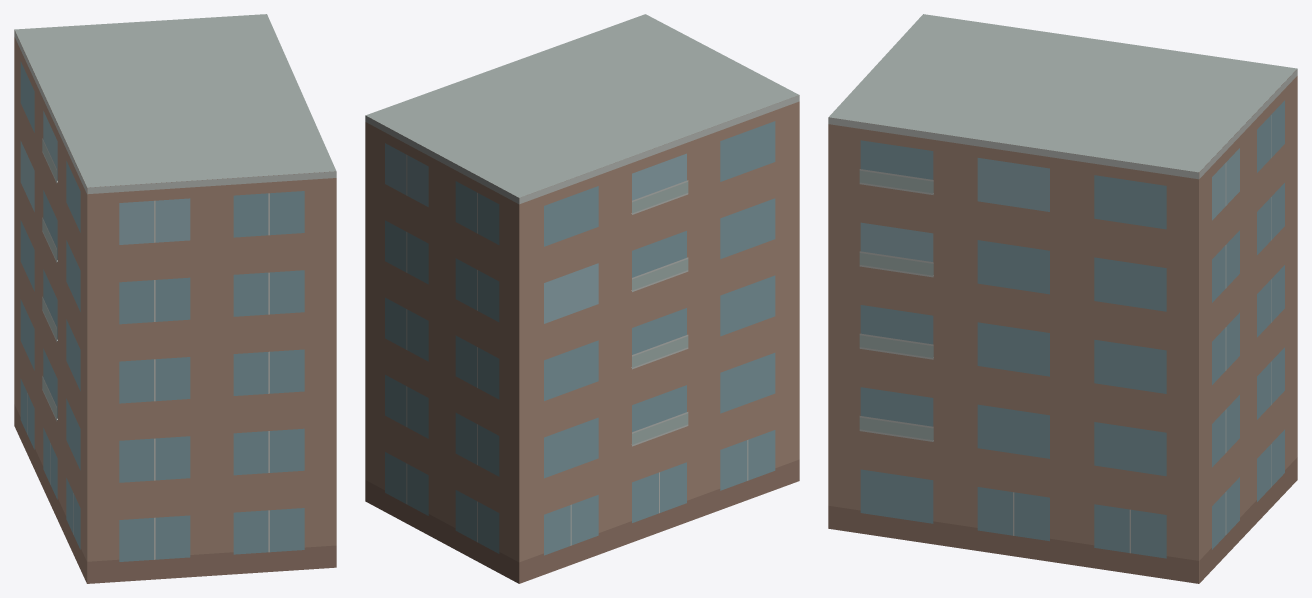
Rendered from survey-upis-33007893.glb.
The picture shows the model from 3 angles, left to right: view 1: azimuth 30°, elevation 25°; view 2: azimuth 150°, elevation 25°; view 3: azimuth 270°, elevation 25°; orthographic projection. The views are drawn at different scales.
Visible parts, largest first — view 1: survey-upis-33007893.tmp; view 2: survey-upis-33007893.tmp; view 3: survey-upis-33007893.tmp.
Part boxes in pixels (left/top/right/bottom): survey-upis-33007893.tmp: left=14, top=14, right=336, bottom=583; survey-upis-33007893.tmp: left=365, top=14, right=799, bottom=583; survey-upis-33007893.tmp: left=828, top=14, right=1297, bottom=583.
Size of the model in its own units: 12.07 by 14.6 by 15.1.
